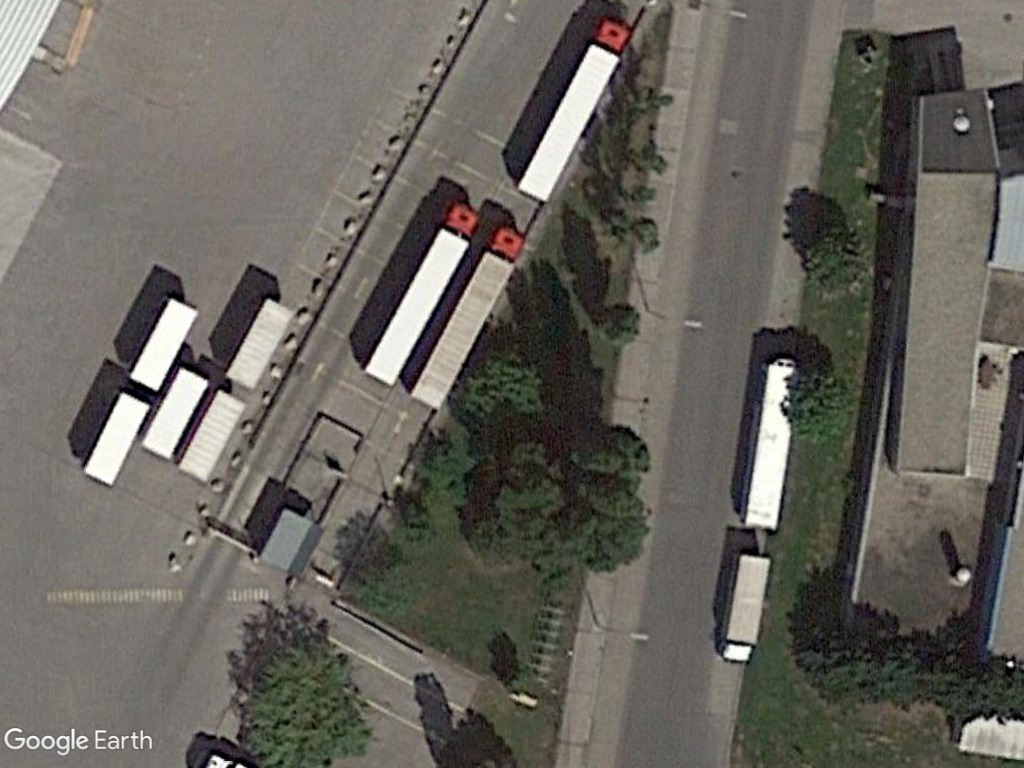longvehicle: (511, 15, 638, 203), (408, 221, 531, 415), (360, 201, 481, 382)
truck: (714, 552, 775, 666)
